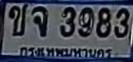3: (59, 6, 75, 36), (113, 7, 129, 37)
8: (96, 7, 110, 36)
9: (78, 6, 92, 36)
A08: (31, 6, 47, 36)
A10: (8, 3, 27, 35)
BKK: (19, 44, 113, 60)
